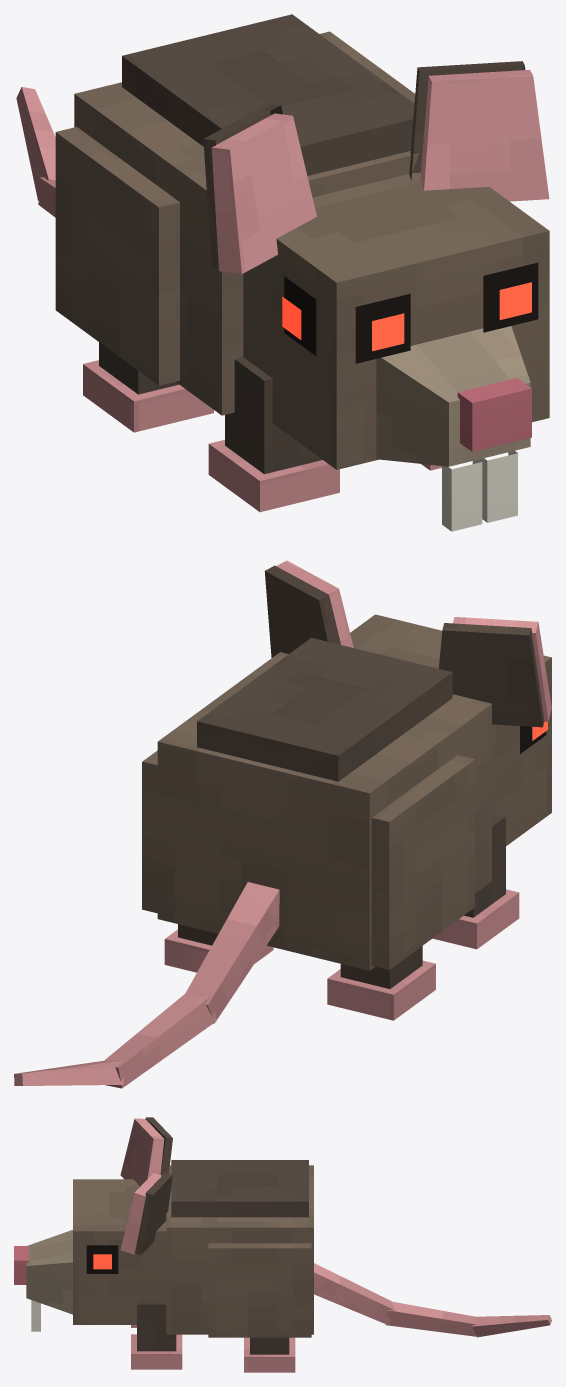
File: mob_rat.glb
3 renders of one model, top to bottom at view 1: azimuth 30°, elevation 25°; view 2: azimuth 150°, elevation 25°; view 3: azimuth 270°, elevation 25°, orthographic. The views are drawn at different scales.
Visible parts, largest first — view 1: mob_rat, leg_fr, leg_br, sway_tail, glow_eyes; view 2: mob_rat, sway_tail, leg_br, leg_fr, leg_bl; view 3: mob_rat, sway_tail, leg_fl, leg_bl.
Part boxes in pixels (bbox=[...]): mob_rat: bbox=[55, 14, 549, 531]; leg_fr: bbox=[208, 357, 339, 512]; leg_br: bbox=[83, 342, 213, 432]; sway_tail: bbox=[16, 87, 55, 217]; glow_eyes: bbox=[282, 282, 531, 351]; mob_rat: bbox=[142, 560, 551, 970]; sway_tail: bbox=[14, 882, 279, 1088]; leg_br: bbox=[327, 946, 435, 1020]; leg_fr: bbox=[432, 814, 519, 949]; leg_bl: bbox=[164, 924, 273, 972]; mob_rat: bbox=[14, 1117, 313, 1337]; sway_tail: bbox=[314, 1263, 551, 1337]; leg_fl: bbox=[131, 1302, 182, 1369]; leg_bl: bbox=[244, 1337, 295, 1372].
Bounding box in the file's own units: 0.3838 × 0.4129 × 1.09.
Materials: 8 (4 with a texture image).
